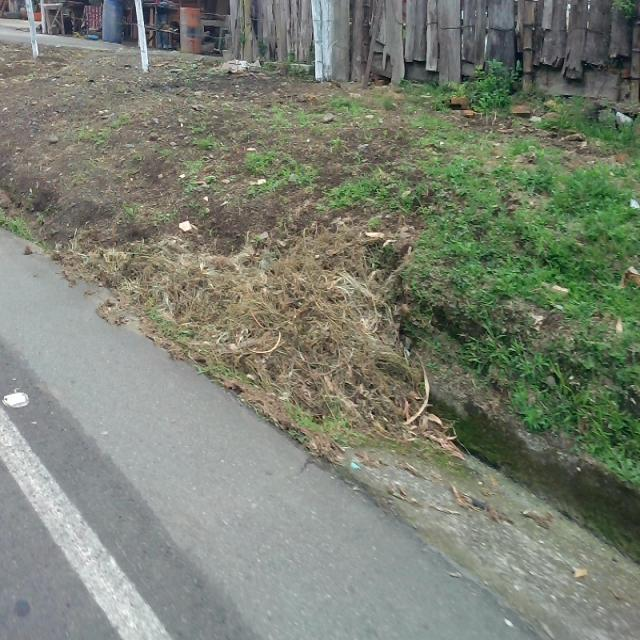DITCH: (1, 35, 638, 636), (3, 80, 636, 639)
